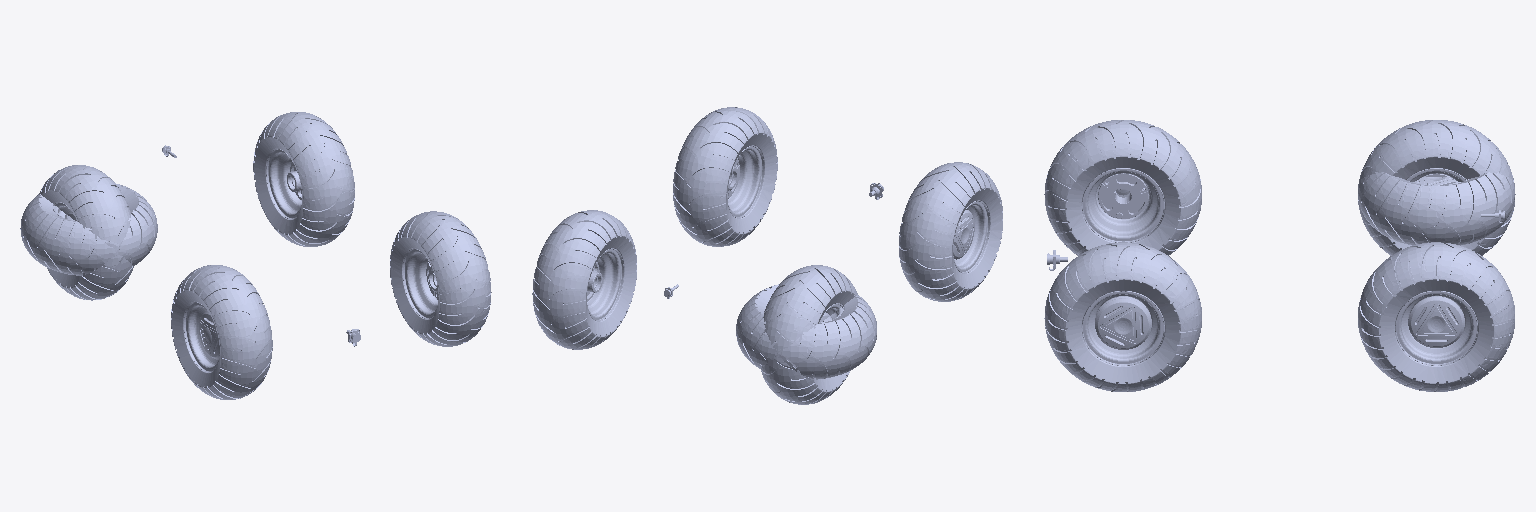
robot.urdf — hunter2_base:
<?xml version="1.0" encoding="utf-8"?>
<!-- This URDF was automatically created by SolidWorks to URDF Exporter! Originally created by [author] ([email redacted]) 
     Commit Version: 1.6.0-1-g15f4949  Build Version: 1.6.7594.29634
     For more information, please see http://wiki.ros.org/sw_urdf_exporter -->
<robot
  name="hunter2_base">
  <link
    name="base_link">
    <inertial>
      <origin
        xyz="-0.0004092 0.026699 -0.1359"
        rpy="0 0 0" />
      <mass
        value="6.0295" />
      <inertia
        ixx="0.11107"
        ixy="1.0132E-06"
        ixz="5.1331E-07"
        iyy="0.033237"
        iyz="-0.0018886"
        izz="0.12661" />
    </inertial>
    <visual>
      <origin
        xyz="0 0 0"
        rpy="0 0 0" />
      <geometry>
        <mesh
          filename="package://hunter2_base/meshes/base_link.STL" />
      </geometry>
      <material
        name="">
        <color
          rgba="0.79216 0.81961 0.93333 1" />
      </material>
    </visual>
    <collision>
      <origin
        xyz="0 0 0"
        rpy="0 0 0" />
      <geometry>
        <mesh
          filename="package://hunter2_base/meshes/base_link.STL" />
      </geometry>
    </collision>
  </link>

  
  <link
    name="front_steer_left_link">
    <inertial>
      <origin
        xyz="0.0023132 0.012614 -1.8116E-05"
        rpy="0 0 0" />
      <mass
        value="7.8526" />
      <inertia
        ixx="0.11091"
        ixy="-3.1921E-07"
        ixz="-2.9854E-08"
        iyy="0.063827"
        iyz="1.5154E-07"
        izz="0.063827" />
    </inertial>
    <visual>
      <origin
        xyz="0 0 0"
        rpy="0 0 0" />
      <geometry>
        <mesh
          filename="package://hunter2_base/meshes/front_steer_left_link.STL" />
      </geometry>
      <material
        name="">
        <color
          rgba="0.79216 0.81961 0.93333 1" />
      </material>
    </visual>
    <collision>
      <origin
        xyz="0 0 0"
        rpy="0 0 0" />
      <geometry>
        <mesh
          filename="package://hunter2_base/meshes/front_steer_left_link.STL" />
      </geometry>
    </collision>
  </link>
  <joint
    name="front_steer_left_joint"
    type="revolute">
    <origin
      xyz="-0.29199 0.37142 -0.1955"
      rpy="3.1416 0 0" />
    <parent
      link="base_link" />
    <child
      link="front_steer_left_link" />
    <axis
      xyz="0 0 1" />
    <limit
      lower="-0.69"
      upper="0.69"
      effort="100"
      velocity="1" />
  </joint>
  <link
    name="front_left_wheel_link">
    <inertial>
      <origin
        xyz="-0.0096386 6.5774E-06 -2.0242E-05"
        rpy="0 0 0" />
      <mass
        value="7.7007" />
      <inertia
        ixx="0.11072"
        ixy="-2.2753E-07"
        ixz="4.88E-08"
        iyy="0.063724"
        iyz="-3.8745E-08"
        izz="0.063724" />
    </inertial>
    <visual>
      <origin
        xyz="0 0 0"
        rpy="0 0 0" />
      <geometry>
        <mesh
          filename="package://hunter2_base/meshes/front_left_wheel_link.STL" />
      </geometry>
      <material
        name="">
        <color
          rgba="0.79216 0.81961 0.93333 1" />
      </material>
    </visual>
    <collision>
      <origin
        xyz="0 0 0"
        rpy="0 0 0" />
      <geometry>
        <mesh
          filename="package://hunter2_base/meshes/front_left_wheel_link.STL" />
      </geometry>
    </collision>
  </link>
  <joint
    name="front_left_wheel_joint"
    type="continuous">
    <origin
      xyz="0 0 0"
      rpy="0 0 0" />
    <parent
      link="front_steer_left_link" />
    <child
      link="front_left_wheel_link" />
    <axis
      xyz="1 0 0" />
  </joint>
  <link
    name="front_steer_right_link">
    <inertial>
      <origin
        xyz="0.0095958 8.9374E-08 -1.0997E-07"
        rpy="0 0 0" />
      <mass
        value="7.696" />
      <inertia
        ixx="0.11068"
        ixy="2.0159E-08"
        ixz="-6.4721E-08"
        iyy="0.063704"
        iyz="-6.3892E-08"
        izz="0.063704" />
    </inertial>
    <visual>
      <origin
        xyz="0 0 0"
        rpy="0 0 0" />
      <geometry>
        <mesh
          filename="package://hunter2_base/meshes/front_steer_right_link.STL" />
      </geometry>
      <material
        name="">
        <color
          rgba="0.79216 0.81961 0.93333 1" />
      </material>
    </visual>
    <collision>
      <origin
        xyz="0 0 0"
        rpy="0 0 0" />
      <geometry>
        <mesh
          filename="package://hunter2_base/meshes/front_steer_right_link.STL" />
      </geometry>
    </collision>
  </link>
  <joint
    name="front_steer_right_joint"
    type="revolute">
    <origin
      xyz="0.29201 0.37142 -0.1955"
      rpy="3.1416 0 0" />
    <parent
      link="base_link" />
    <child
      link="front_steer_right_link" />
    <axis
      xyz="-1 0 0" />
    <limit
      lower="0"
      upper="0"
      effort="100"
      velocity="1" />
  </joint>
  <link
    name="front_right_wheel_link">
    <inertial>
      <origin
        xyz="0.0095049 9.1148E-08 -1.1284E-07"
        rpy="0 0 0" />
      <mass
        value="7.5613" />
      <inertia
        ixx="0.11054"
        ixy="2.0164E-08"
        ixz="-6.4721E-08"
        iyy="0.063626"
        iyz="-6.4092E-08"
        izz="0.063626" />
    </inertial>
    <visual>
      <origin
        xyz="0 0 0"
        rpy="0 0 0" />
      <geometry>
        <mesh
          filename="package://hunter2_base/meshes/front_right_wheel_link.STL" />
      </geometry>
      <material
        name="">
        <color
          rgba="0.79216 0.81961 0.93333 1" />
      </material>
    </visual>
    <collision>
      <origin
        xyz="0 0 0"
        rpy="0 0 0" />
      <geometry>
        <mesh
          filename="package://hunter2_base/meshes/front_right_wheel_link.STL" />
      </geometry>
    </collision>
  </link>
  <joint
    name="front_right_wheel_joint"
    type="continuous">
    <origin
      xyz="0 0 0"
      rpy="0 0 0" />
    <parent
      link="front_steer_right_link" />
    <child
      link="front_right_wheel_link" />
    <axis
      xyz="-1 0 0" />
  </joint>
  <link
    name="left_rear_link">
    <inertial>
      <origin
        xyz="-0.0096491 8.826E-05 -6.4342E-05"
        rpy="0 0 0" />
      <mass
        value="7.6692" />
      <inertia
        ixx="0.11067"
        ixy="-2.638E-08"
        ixz="5.9934E-08"
        iyy="0.063699"
        iyz="-2.542E-07"
        izz="0.063699" />
    </inertial>
    <visual>
      <origin
        xyz="0 0 0"
        rpy="0 0 0" />
      <geometry>
        <mesh
          filename="package://hunter2_base/meshes/left_rear_link.STL" />
      </geometry>
      <material
        name="">
        <color
          rgba="0.79216 0.81961 0.93333 1" />
      </material>
    </visual>
    <collision>
      <origin
        xyz="0 0 0"
        rpy="0 0 0" />
      <geometry>
        <mesh
          filename="package://hunter2_base/meshes/left_rear_link.STL" />
      </geometry>
    </collision>
  </link>
  <joint
    name="left_rear_joint"
    type="continuous">
    <origin
      xyz="-0.29249 -0.28 -0.19558"
      rpy="3.1416 0 0" />
    <parent
      link="base_link" />
    <child
      link="left_rear_link" />
    <axis
      xyz="-1 0 0" />
    <limit
      effort="100"
      velocity="1" />
  </joint>
  <link
    name="right_rear_link">
    <inertial>
      <origin
        xyz="0.0097824 -8.6542E-05 -7.4259E-05"
        rpy="0 0 0" />
      <mass
        value="7.7133" />
      <inertia
        ixx="0.11073"
        ixy="-2.6538E-08"
        ixz="-5.987E-08"
        iyy="0.06373"
        iyz="2.5385E-07"
        izz="0.06373" />
    </inertial>
    <visual>
      <origin
        xyz="0 0 0"
        rpy="0 0 0" />
      <geometry>
        <mesh
          filename="package://hunter2_base/meshes/right_rear_link.STL" />
      </geometry>
      <material
        name="">
        <color
          rgba="0.79216 0.81961 0.93333 1" />
      </material>
    </visual>
    <collision>
      <origin
        xyz="0 0 0"
        rpy="0 0 0" />
      <geometry>
        <mesh
          filename="package://hunter2_base/meshes/right_rear_link.STL" />
      </geometry>
    </collision>
  </link>
  <joint
    name="right_rear_joint"
    type="continuous">
    <origin
      xyz="0.29251 -0.28018 -0.19558"
      rpy="3.1416 0 0" />
    <parent
      link="base_link" />
    <child
      link="right_rear_link" />
    <axis
      xyz="-1 0 0" />
    <limit
      effort="100"
      velocity="1" />
  </joint>
  <link
    name="front_steer_link">
    <inertial>
      <origin
        xyz="-8.1046E-15 0.049836 0.017912"
        rpy="0 0 0" />
      <mass
        value="0.0049179" />
      <inertia
        ixx="7.549E-07"
        ixy="4.1693E-23"
        ixz="1.9576E-22"
        iyy="1.6846E-07"
        iyz="-1.0974E-08"
        izz="7.334E-07" />
    </inertial>
    <visual>
      <origin
        xyz="0 0 0"
        rpy="0 0 0" />
      <geometry>
        <mesh
          filename="package://hunter2_base/meshes/front_steer_link.STL" />
      </geometry>
      <material
        name="">
        <color
          rgba="0.79216 0.81961 0.93333 1" />
      </material>
    </visual>
    <collision>
      <origin
        xyz="0 0 0"
        rpy="0 0 0" />
      <geometry>
        <mesh
          filename="package://hunter2_base/meshes/front_steer_link.STL" />
      </geometry>
    </collision>
  </link>
  <joint
    name="front_steer_joint"
    type="fixed">
    <origin
      xyz="1.1431E-05 0.44792 -0.121"
      rpy="0 0 0" />
    <parent
      link="base_link" />
    <child
      link="front_steer_link" />
    <axis
      xyz="0 0 0" />
  </joint>
  <link
    name="rear_wheel_link">
    <inertial>
      <origin
        xyz="-0.02 0.0031269 -0.12735"
        rpy="0 0 0" />
      <mass
        value="0.010062" />
      <inertia
        ixx="1.1821E-06"
        ixy="9.6965E-13"
        ixz="-3.1553E-12"
        iyy="9.5276E-07"
        iyz="1.2428E-08"
        izz="1.0913E-06" />
    </inertial>
    <visual>
      <origin
        xyz="0 0 0"
        rpy="0 0 0" />
      <geometry>
        <mesh
          filename="package://hunter2_base/meshes/rear_wheel_link.STL" />
      </geometry>
      <material
        name="">
        <color
          rgba="0.79216 0.81961 0.93333 1" />
      </material>
    </visual>
    <collision>
      <origin
        xyz="0 0 0"
        rpy="0 0 0" />
      <geometry>
        <mesh
          filename="package://hunter2_base/meshes/rear_wheel_link.STL" />
      </geometry>
    </collision>
  </link>
  <joint
    name="rear_wheel_joint"
    type="fixed">
    <origin
      xyz="1.1431E-05 -0.42408 -0.085581"
      rpy="0 0 0" />
    <parent
      link="base_link" />
    <child
      link="rear_wheel_link" />
    <axis
      xyz="0 0 0" />
  </joint>





</robot>

--- What the picture shows (computed from the rendered views, not written in the file) ---
3 views of the same robot in one strip: view 1: azimuth 30°, elevation 25°; view 2: azimuth 150°, elevation 25°; view 3: azimuth 270°, elevation 25° (orthographic).
Model hunter2_base with 9 links and 8 joints (2 revolute, 4 continuous, 2 fixed), rooted at base_link, posed all joints at 0.
Visible links, largest first — view 1: left_rear_link, front_steer_right_link, right_rear_link, front_steer_left_link, front_left_wheel_link; view 2: front_steer_right_link, left_rear_link, right_rear_link, front_steer_left_link, front_left_wheel_link; view 3: front_steer_right_link, right_rear_link, left_rear_link, front_left_wheel_link, front_steer_left_link.
Boxes of the visible links, <box> form: left_rear_link: <box>171,265,272,399</box>; front_steer_right_link: <box>253,112,354,246</box>; right_rear_link: <box>390,211,491,346</box>; front_steer_left_link: <box>39,165,437,300</box>; front_left_wheel_link: <box>20,183,157,275</box>; front_steer_right_link: <box>532,210,636,349</box>; left_rear_link: <box>899,162,1002,301</box>; right_rear_link: <box>673,107,777,246</box>; front_steer_left_link: <box>728,160,857,404</box>; front_left_wheel_link: <box>736,284,876,379</box>; front_steer_right_link: <box>1358,242,1514,391</box>; right_rear_link: <box>1044,242,1201,391</box>; left_rear_link: <box>1044,120,1201,255</box>; front_left_wheel_link: <box>1358,172,1514,245</box>; front_steer_left_link: <box>1100,120,1515,349</box>.
Size in the robot's own frame: 0.8288 by 0.9798 by 0.3283 metres.
8 mesh visuals loaded from 9 distinct referenced files (8 binary STL); not drawn: 1 (reference not matched to a file when rendering).
